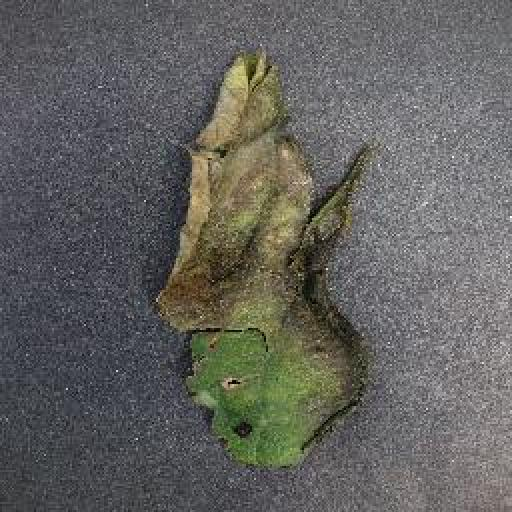disease_tomato: (156, 49, 375, 475)
